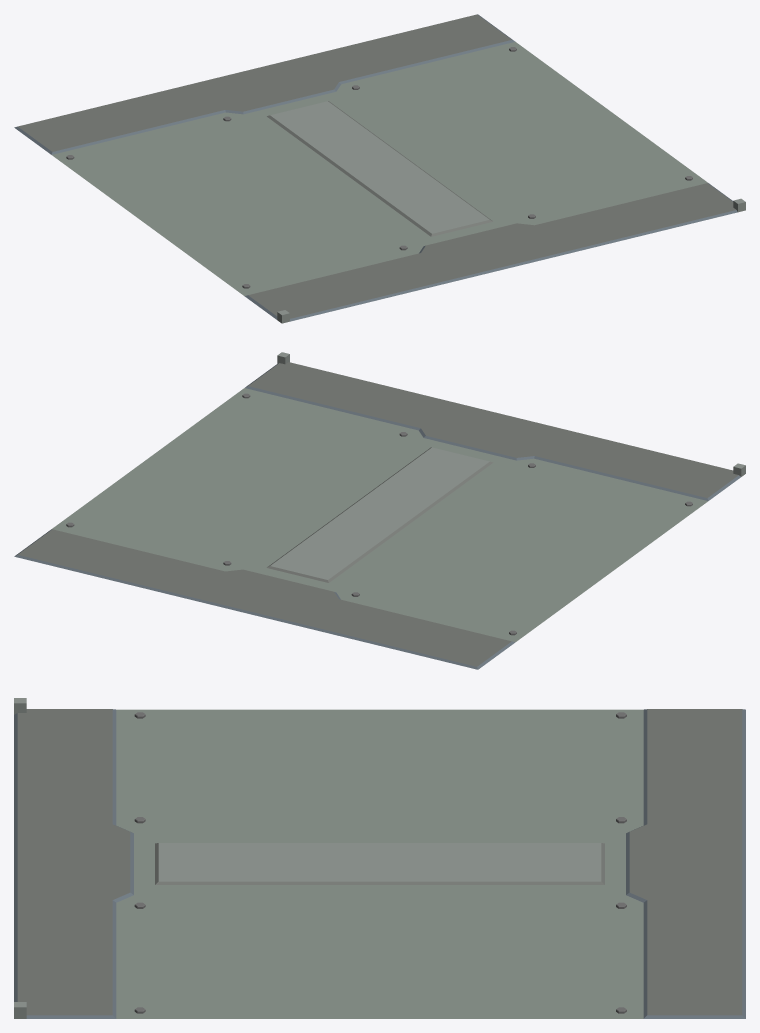
Rendered from EmptyFork_B.gltf.
The picture shows the model from 3 angles, top to bottom: view 1: azimuth 30°, elevation 25°; view 2: azimuth 150°, elevation 25°; view 3: azimuth 270°, elevation 25°; orthographic projection. The views are drawn at different scales.
Visible parts, largest first — view 1: Scifi_Panel_01 Plaza014_group4.006; view 2: Scifi_Panel_01 Plaza014_group4.006; view 3: Scifi_Panel_01 Plaza014_group4.006.
Part boxes in pixels (x1=…): Scifi_Panel_01 Plaza014_group4.006: x1=14, y1=14, x2=745, y2=323; Scifi_Panel_01 Plaza014_group4.006: x1=14, y1=352, x2=745, y2=669; Scifi_Panel_01 Plaza014_group4.006: x1=14, y1=698, x2=745, y2=1018.
Bounding box in the file's own units: 10 × 0.1734 × 10.
Materials: 1 (1 with a texture image).
